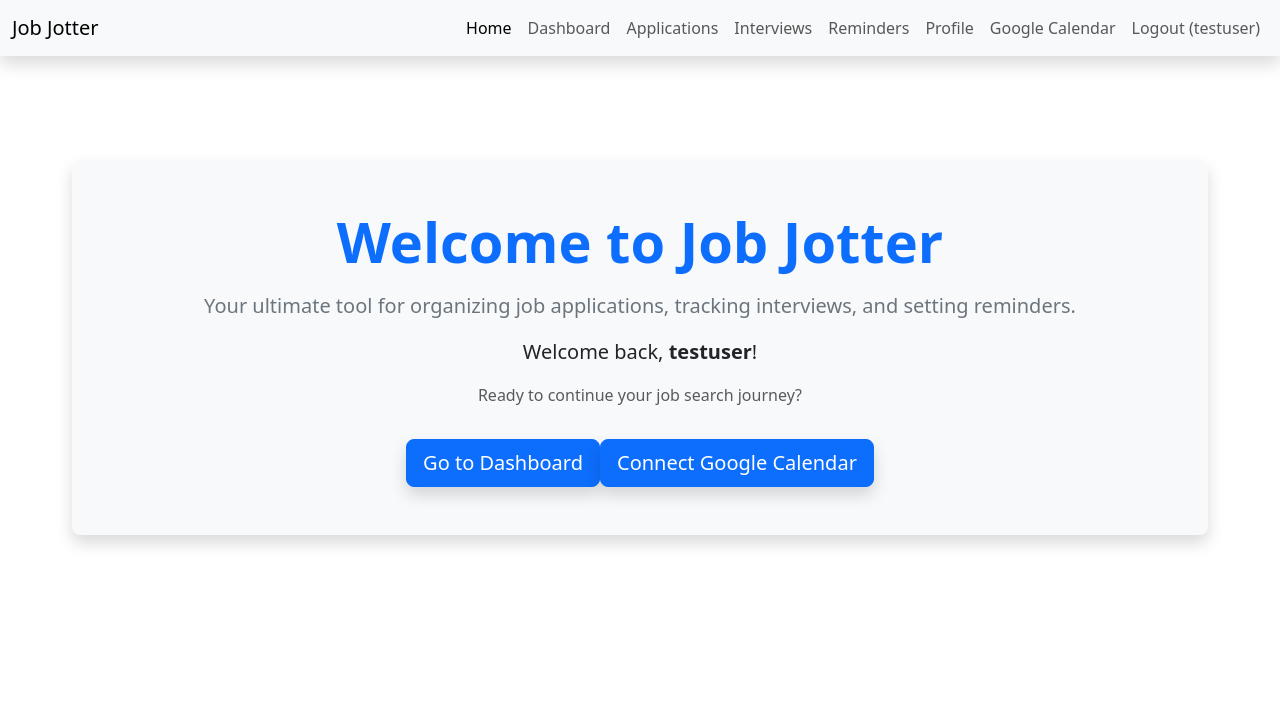
Test case: App Component › logs out user and clears state
Simulate a click on the Logout button
Click the button "Logout (testuser)" at (1196, 28), box [1124,8,1268,48]
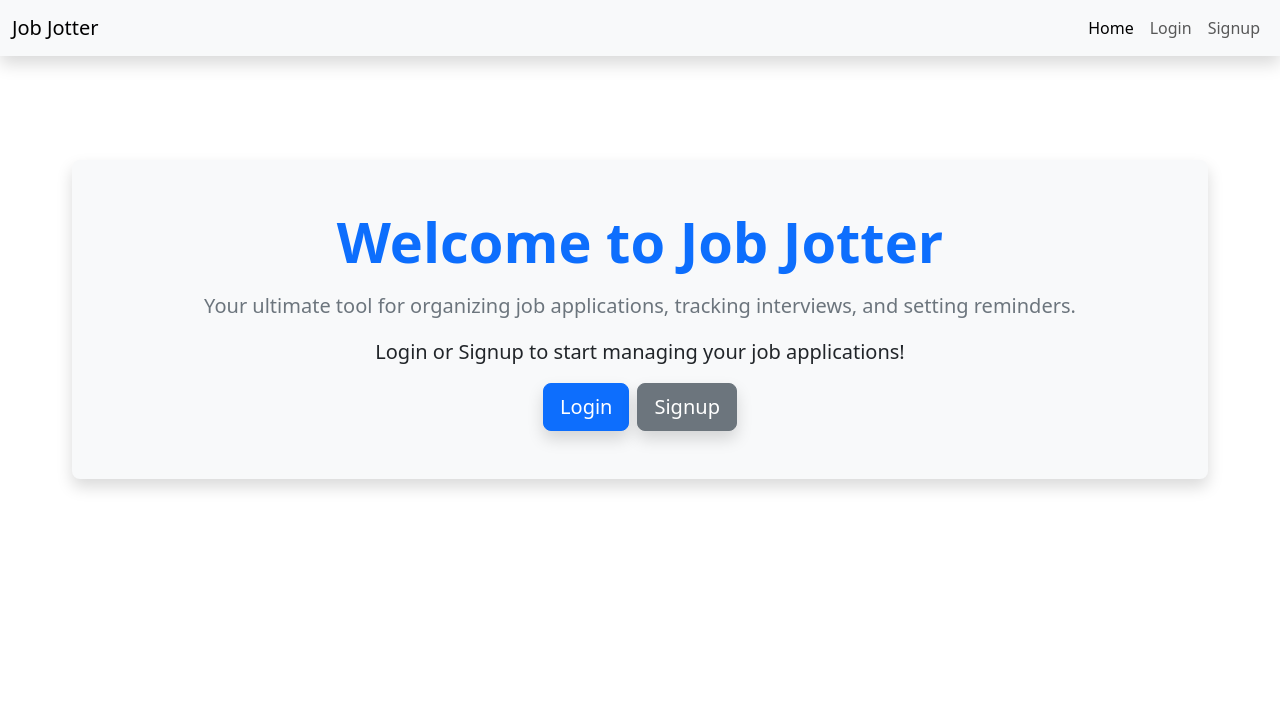
Check: the link "Login" next to "Home" is shown, box [1150,17,1192,39]
Check: the button "Logout" is gone
